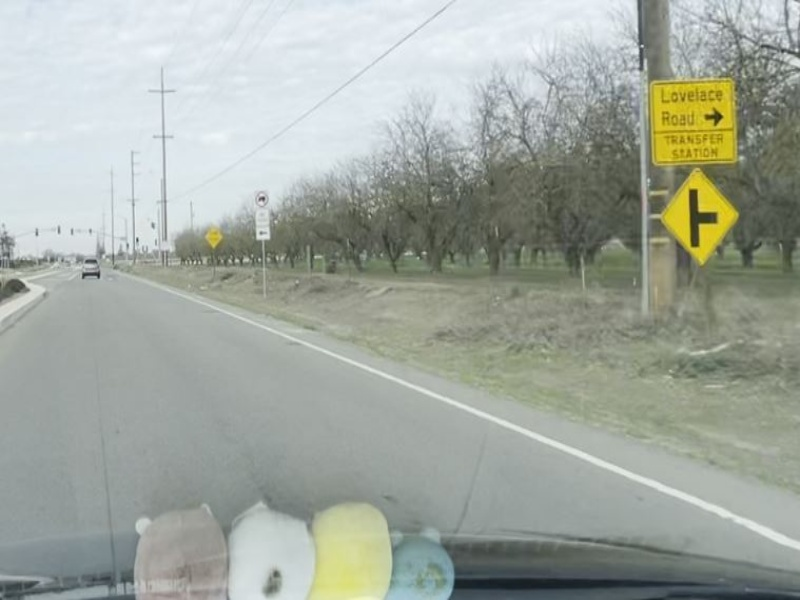t intersection sign: (660, 167, 742, 267)
